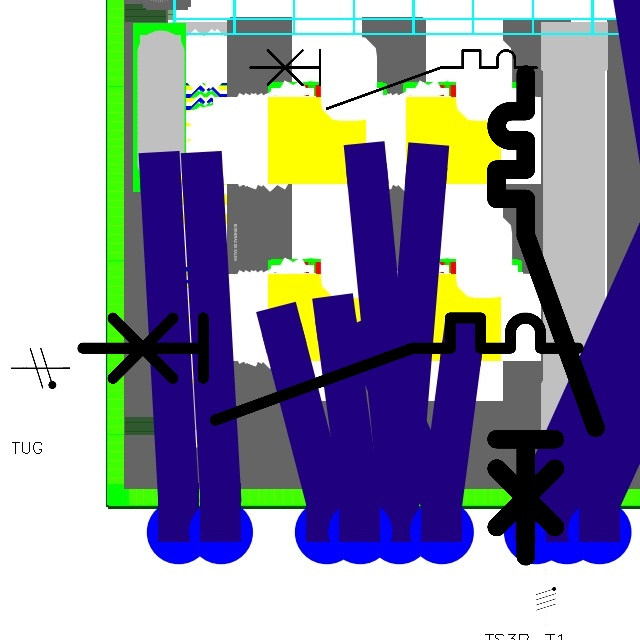interruptor_termomagnetico: (69, 305, 590, 432), (484, 62, 608, 569), (243, 43, 544, 116)
